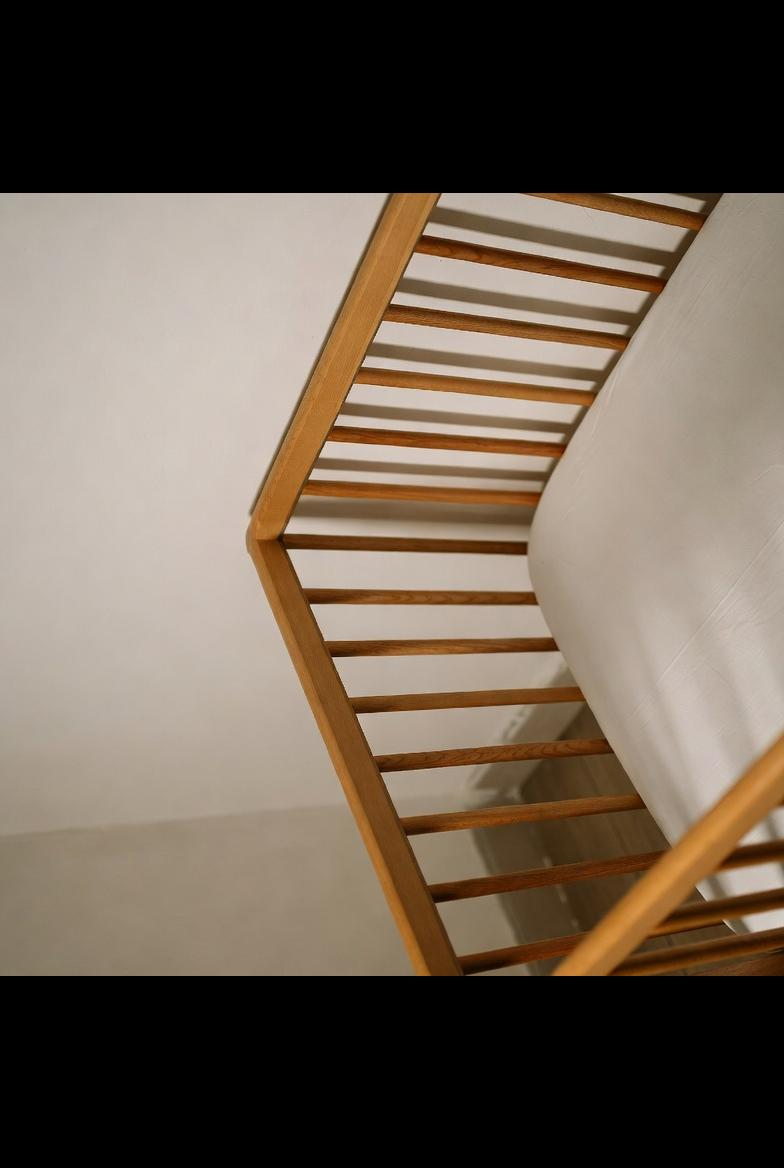crib: (248, 192, 784, 976)
